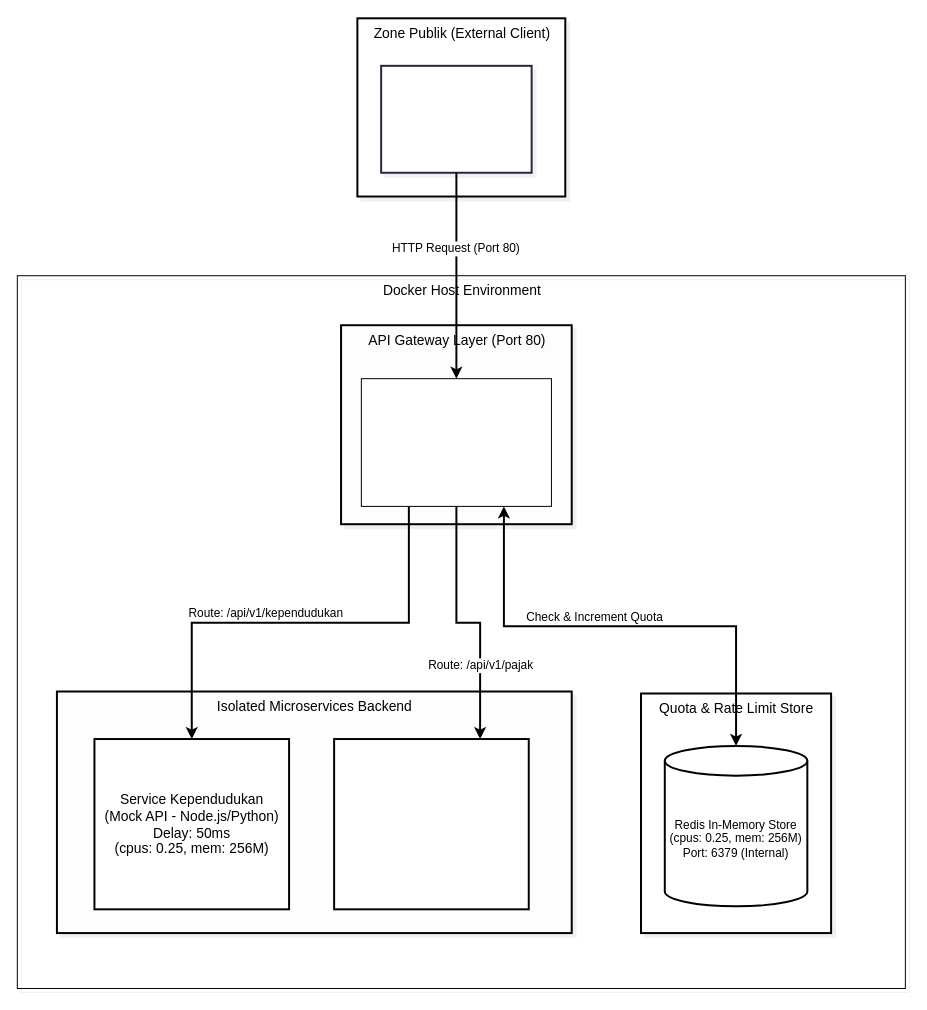
Image size: 927x1010. Some labels were removed from this diagram. Each missing label, with the centre of its shape:
"1000 Virtual Users (K6 / Locust / Browser)" goes at [458,120].
"Kong / Traefik API Gateway (cpus: 0.25, mem: 256M)" goes at [455,442].
"Service Pajak (Mock API - Node.js/Python) Delay: 100ms (cpus: 0.25, mem: 256M)" goes at [431,824].
